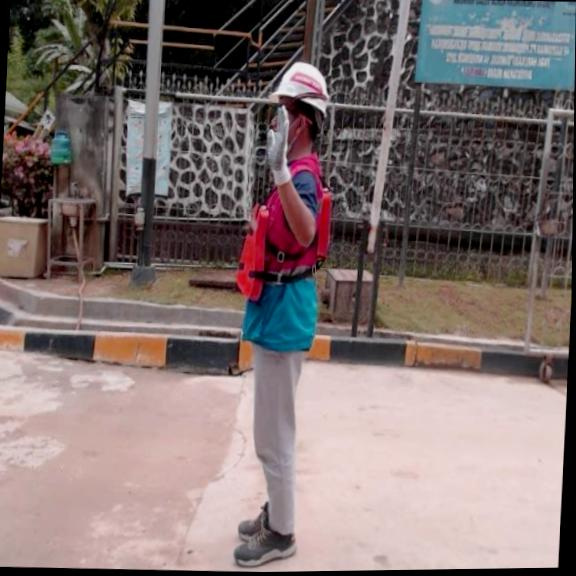safety_vest: (232, 179, 336, 306)
